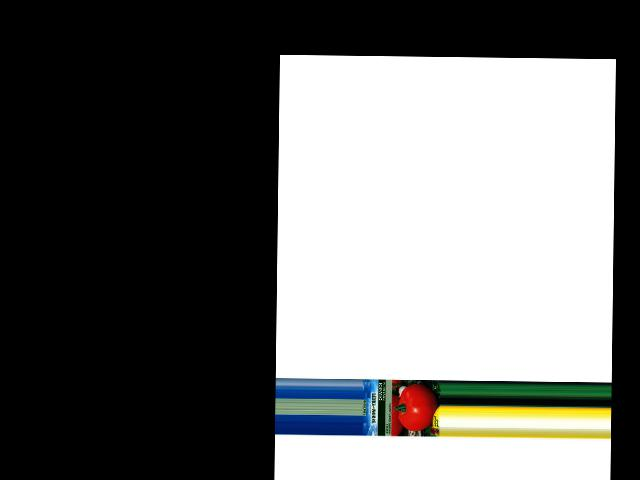tomato: (398, 384, 438, 431)
